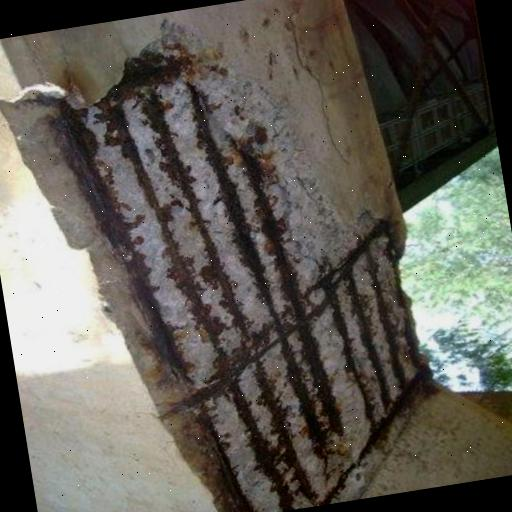spalling: (6, 36, 430, 512)
